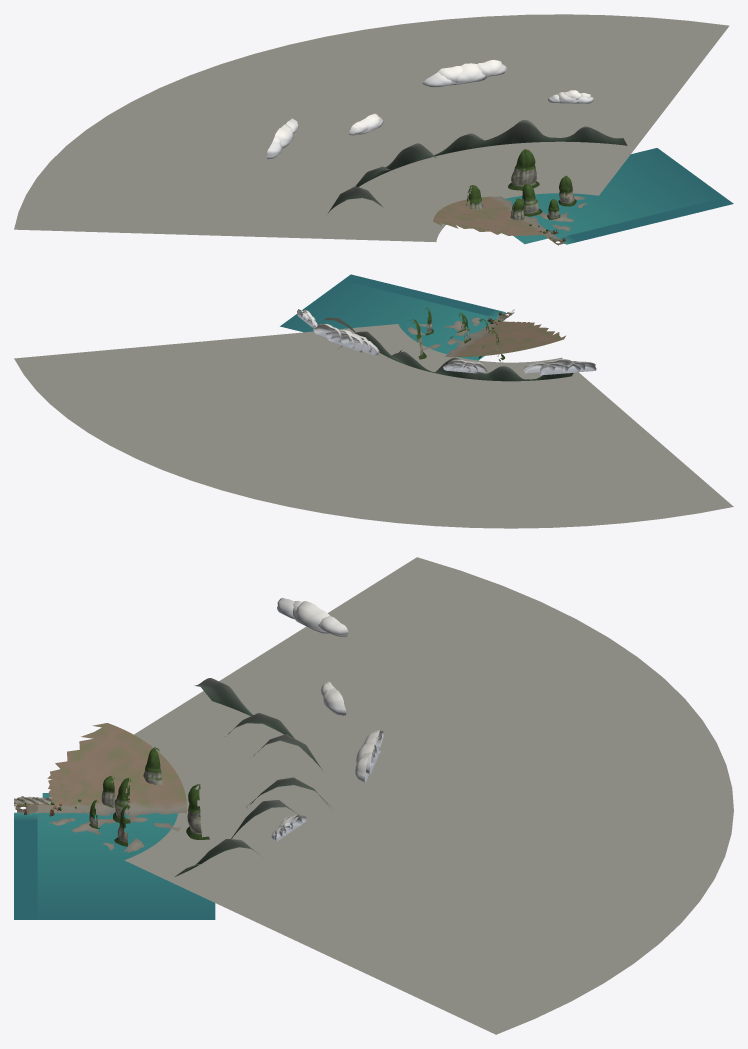
File: arena_perak.glb
3 renders of one model, top to bottom at view 1: azimuth 30°, elevation 25°; view 2: azimuth 150°, elevation 25°; view 3: azimuth 270°, elevation 25°, orthographic. The views are drawn at different scales.
Parts seen in each view (by area): view 1: EnvFar_MatSand_tailing, EnvFar_MatWater_pool, EnvFar_MatRock_lime, EnvFar_MatCloth_haze; view 2: EnvFar_MatSand_tailing, EnvFar_MatWater_pool, EnvFar_MatCloth_haze, EnvFar_MatRock_lime; view 3: EnvFar_MatSand_tailing, EnvFar_MatWater_pool, EnvFar_MatRock_lime, EnvFar_MatCloth_haze.
Part boxes in pixels (x1,y1,x2,y2): EnvFar_MatSand_tailing: (14,14,729,242); EnvFar_MatWater_pool: (505,148,733,244); EnvFar_MatRock_lime: (328,119,627,220); EnvFar_MatCloth_haze: (267,59,593,159); EnvFar_MatSand_tailing: (14,316,733,528); EnvFar_MatWater_pool: (280,274,496,360); EnvFar_MatCloth_haze: (297,309,596,375); EnvFar_MatRock_lime: (318,307,573,381); EnvFar_MatSand_tailing: (34,557,733,1034); EnvFar_MatWater_pool: (14,793,215,919); EnvFar_MatRock_lime: (89,678,331,876); EnvFar_MatCloth_haze: (271,597,383,841).
Size of the model in its own units: 1729 by 169 by 1102.
